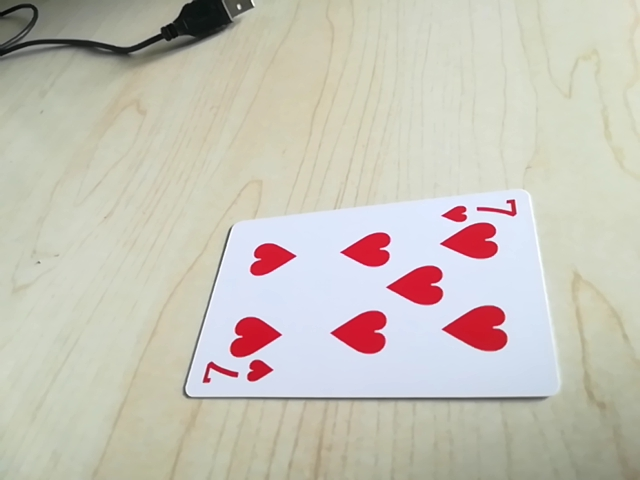hx 7: (195, 360, 274, 393), (441, 194, 523, 225)
